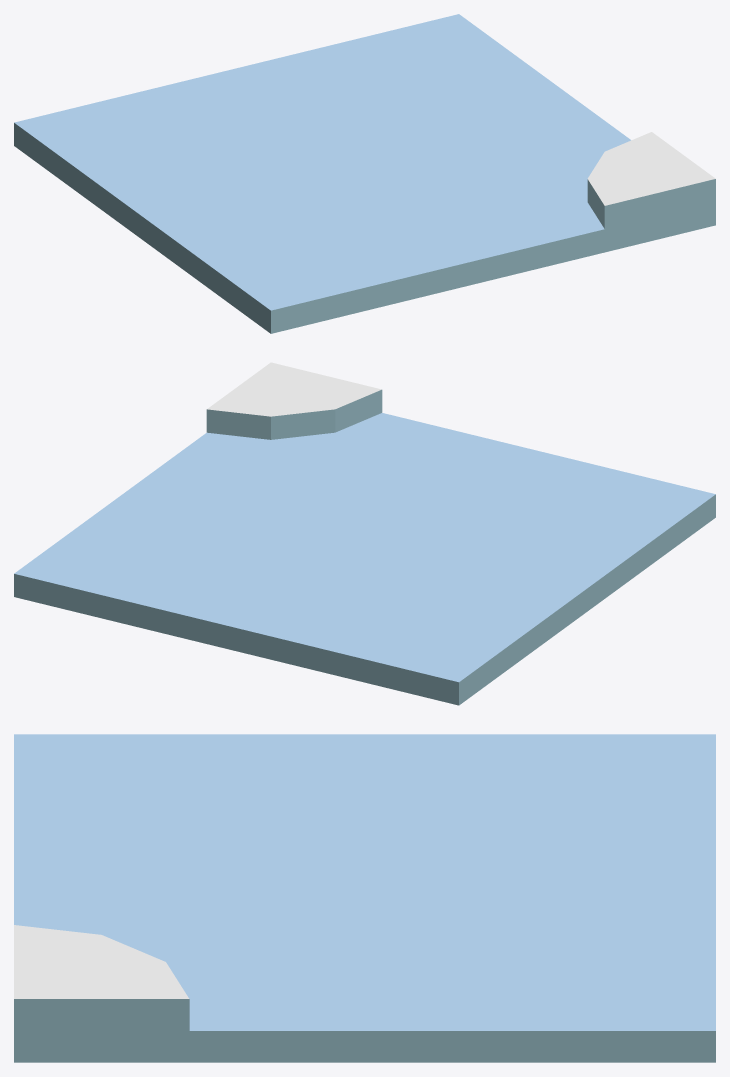
Rendered from Terrain_Modular_Tiles_Snow_Ice_Water_Edge_Corner_Inner_01.fbx.
3 views of the same model, one above another, from view 1: azimuth 30°, elevation 25°; view 2: azimuth 150°, elevation 25°; view 3: azimuth 270°, elevation 25° (orthographic). The views are drawn at different scales.
Parts seen in each view (by area): view 1: Terrain_Modular_Tiles_Snow_Ice_Water_Edge_Corner_Inner_01; view 2: Terrain_Modular_Tiles_Snow_Ice_Water_Edge_Corner_Inner_01; view 3: Terrain_Modular_Tiles_Snow_Ice_Water_Edge_Corner_Inner_01.
Boxes of the visible parts, bbox=[...] form: Terrain_Modular_Tiles_Snow_Ice_Water_Edge_Corner_Inner_01: bbox=[14, 14, 715, 333]; Terrain_Modular_Tiles_Snow_Ice_Water_Edge_Corner_Inner_01: bbox=[14, 362, 715, 705]; Terrain_Modular_Tiles_Snow_Ice_Water_Edge_Corner_Inner_01: bbox=[14, 734, 715, 1062].
Size of the model in its own units: 3000 by 300 by 3000.
